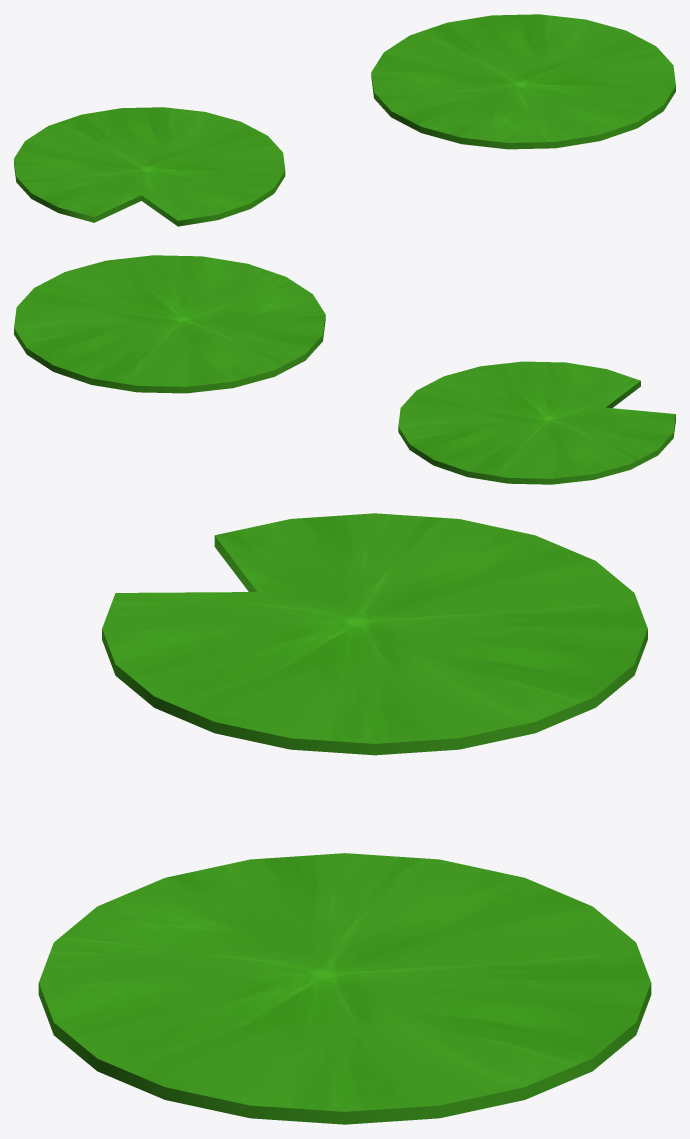
The model's file is lotusleaf0.fbx.
The picture shows the model from 3 angles, top to bottom: view 1: azimuth 30°, elevation 25°; view 2: azimuth 150°, elevation 25°; view 3: azimuth 270°, elevation 25°; orthographic projection. The views are drawn at different scales.
Parts seen in each view (by area): view 1: stage01:pasted__pPipe1, stage01:pasted__pPipe2; view 2: stage01:pasted__pPipe1, stage01:pasted__pPipe2; view 3: stage01:pasted__pPipe1, stage01:pasted__pPipe2.
Boxes of the visible parts, x1,y1,x2,y2 form: stage01:pasted__pPipe1: (371,14,675,149); stage01:pasted__pPipe2: (14,107,285,226); stage01:pasted__pPipe1: (14,255,325,393); stage01:pasted__pPipe2: (398,361,675,484); stage01:pasted__pPipe1: (38,853,651,1124); stage01:pasted__pPipe2: (102,513,647,755).
Bounding box in the file's own units: 13.17 × 0.1555 × 5.66.
Materials: 2 (2 with a texture image).
